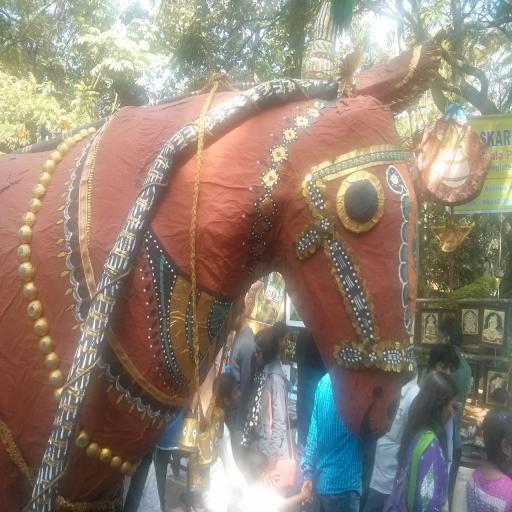horse: (0, 44, 443, 512)
